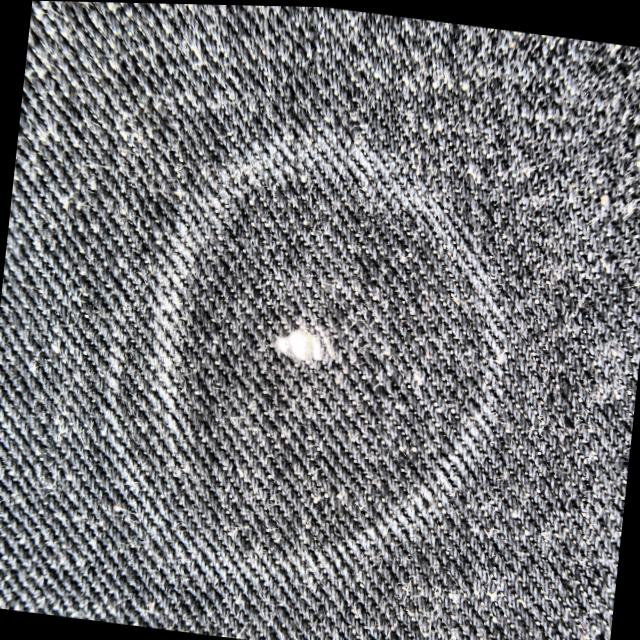Hole: (275, 322, 330, 363)
